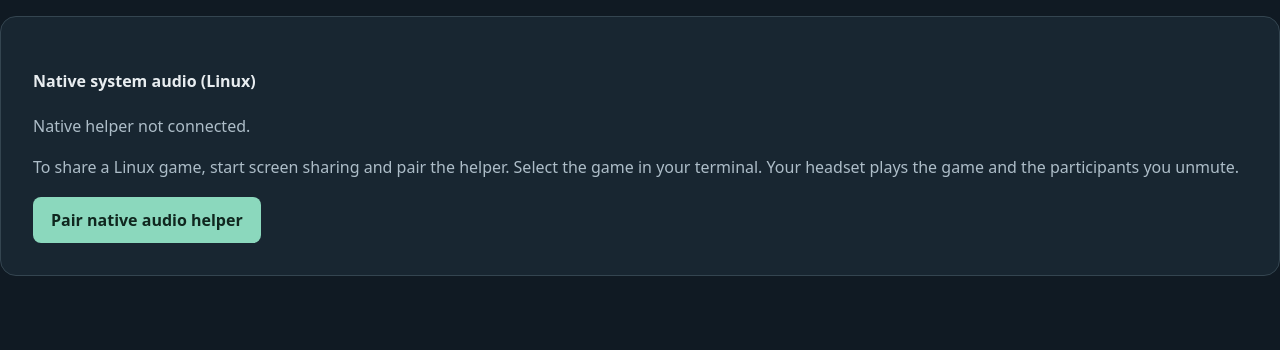
Test: failed authorization is shown without credentials
Click the button "Pair native audio helper".
click(147, 220)  # box [33,197,261,243]
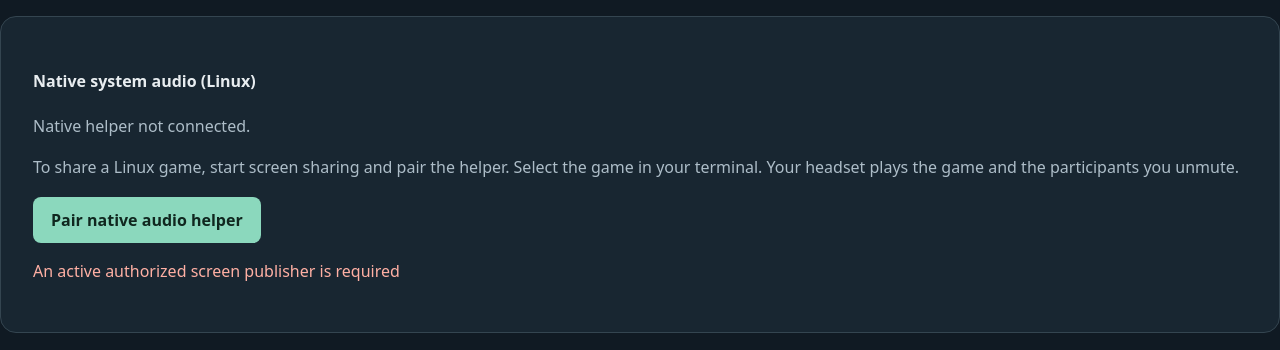
Check: the message "An active authorized screen publisher is required" is shown, box [33,260,400,282]
